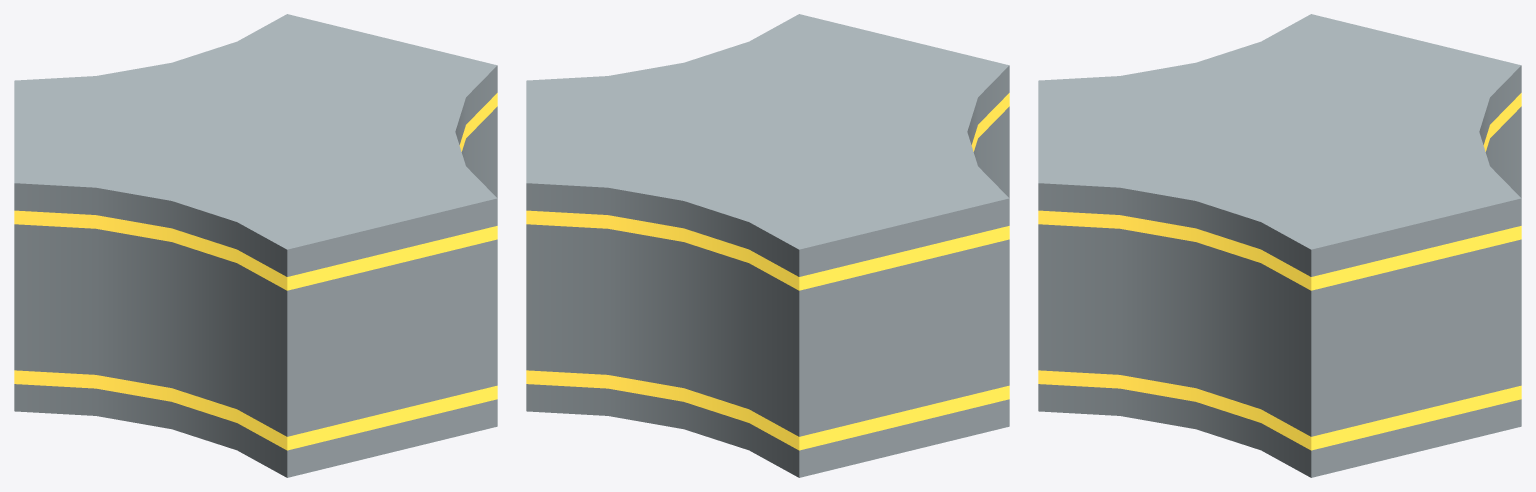
File: SM_CurvedThreeway_v0.fbx
3 views of the same model, side by side, from view 1: azimuth 30°, elevation 25°; view 2: azimuth 150°, elevation 25°; view 3: azimuth 270°, elevation 25° (orthographic).
Visible parts, largest first — view 1: SM_CurvedThreeway_v0; view 2: SM_CurvedThreeway_v0; view 3: SM_CurvedThreeway_v0.
Boxes of the visible parts, x1,y1,x2,y2 form: SM_CurvedThreeway_v0: (14, 14, 497, 477); SM_CurvedThreeway_v0: (526, 14, 1009, 477); SM_CurvedThreeway_v0: (1038, 14, 1521, 477).
Bounding box in the file's own units: 2.21 × 1 × 1.92.
